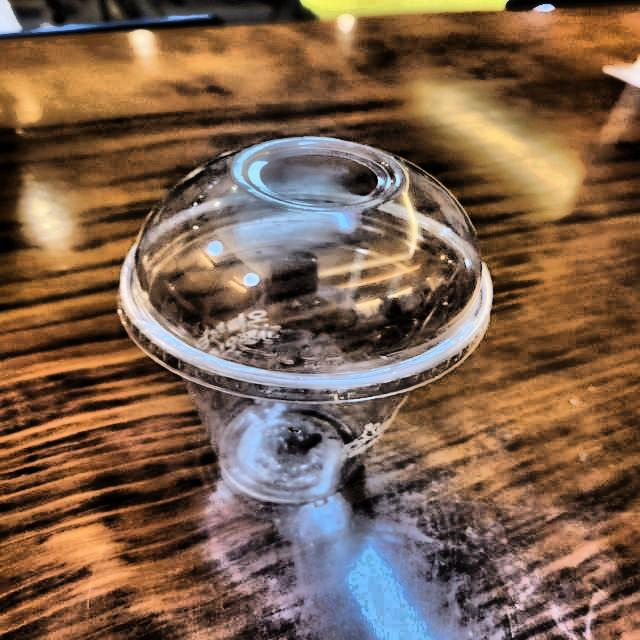plastic cup: (92, 121, 507, 534)
